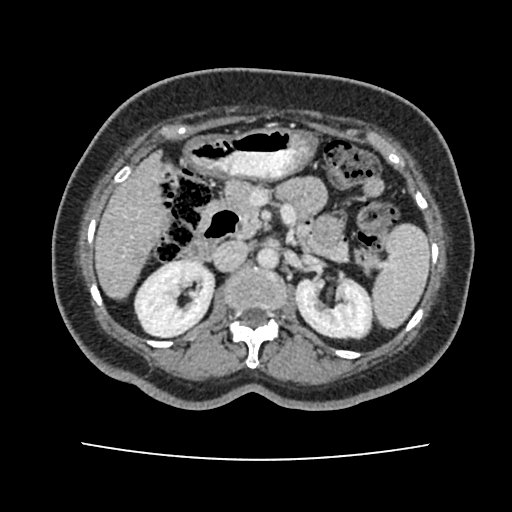aorta: (256, 245, 280, 270)
